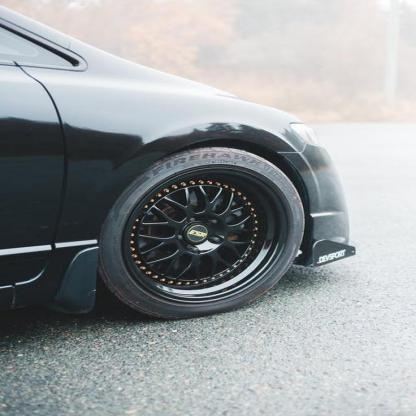Tire: (96, 144, 307, 321)
